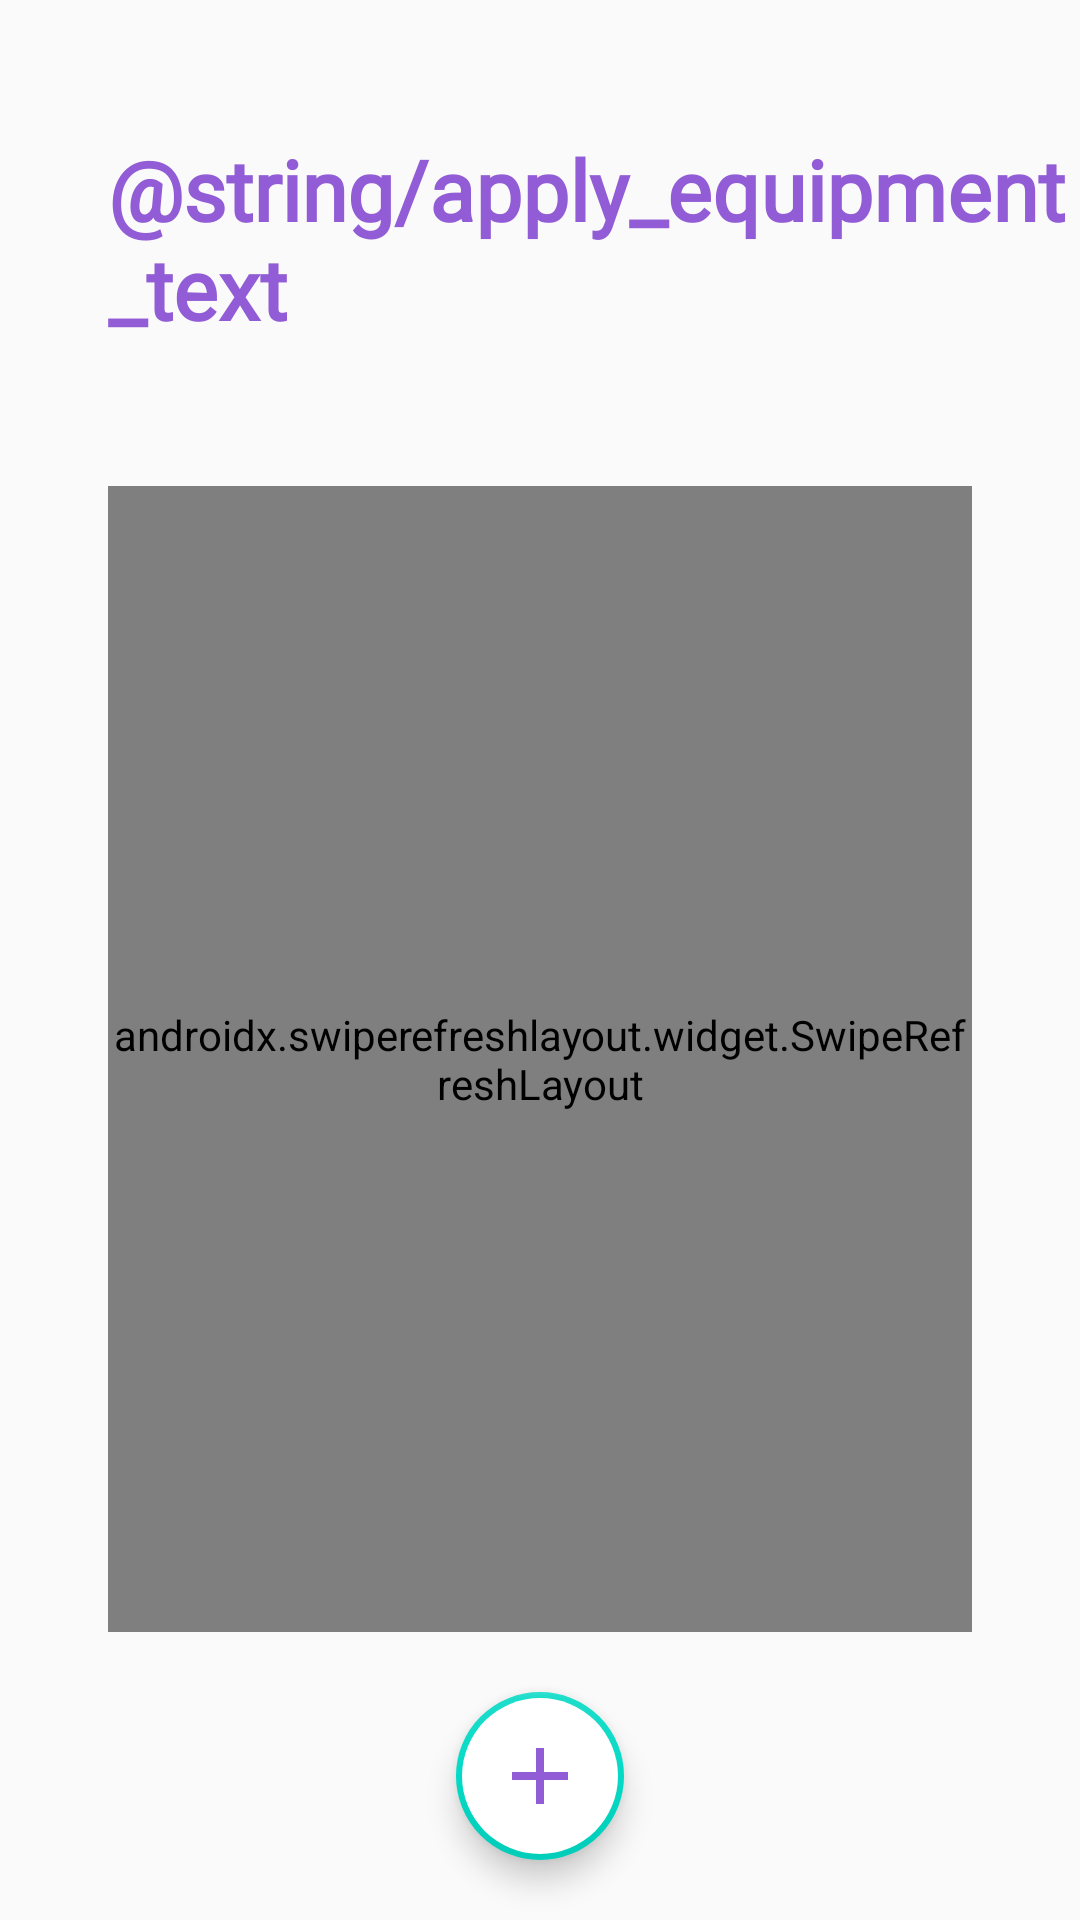

Where to tap for icons on this 1080*1920 app screen, as (x=x, y=y):
add: (x=540, y=1776)
